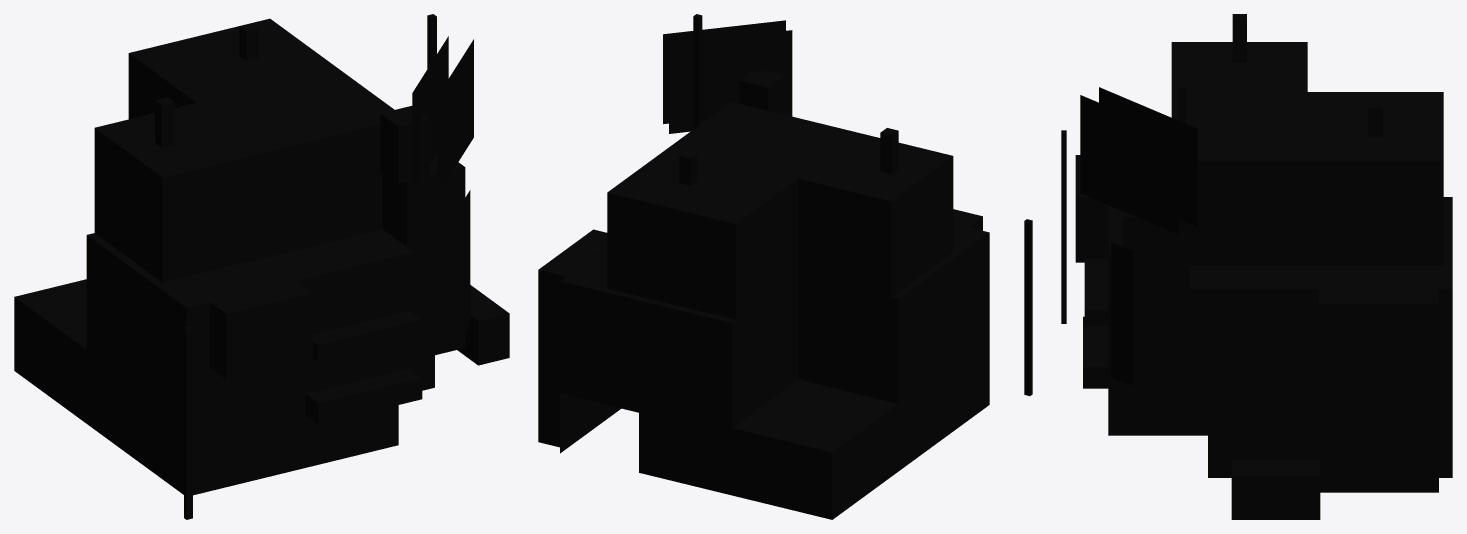
File: far-CJKXv-qo.glb
3 views of the same model, side by side, from view 1: azimuth 30°, elevation 25°; view 2: azimuth 150°, elevation 25°; view 3: azimuth 270°, elevation 25° (orthographic). The views are drawn at different scales.
Parts seen in each view (by area): view 1: farBaked; view 2: farBaked; view 3: farBaked.
Boxes of the visible parts, x1,y1,x2,y2 form: farBaked: (14, 14, 509, 519); farBaked: (538, 14, 1032, 519); farBaked: (1061, 14, 1452, 519).
Size of the model in its own units: 26 by 23.4 by 21.6.
Materials: 1 (1 with a texture image).
